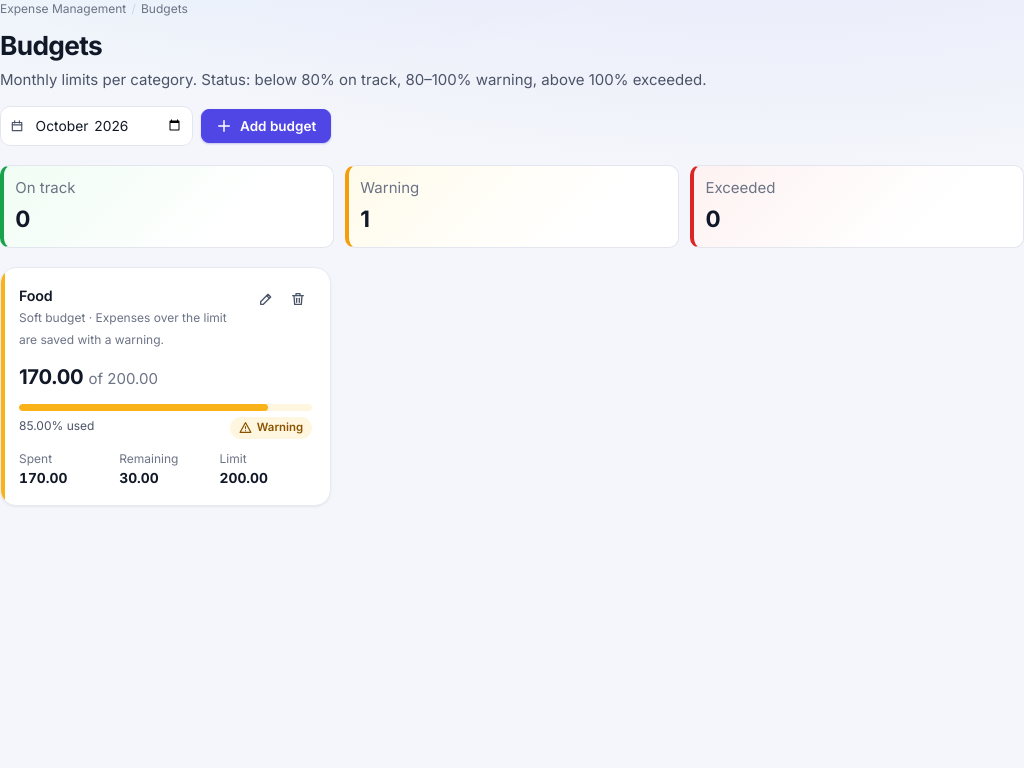
BudgetsPage › delete → confirmation dialog then DELETE
expect the heading "Food" is shown: met, box [19, 287, 53, 304]
Click the 2nd button named "Delete Food budget".
click(298, 299)  # box [284, 285, 312, 313]
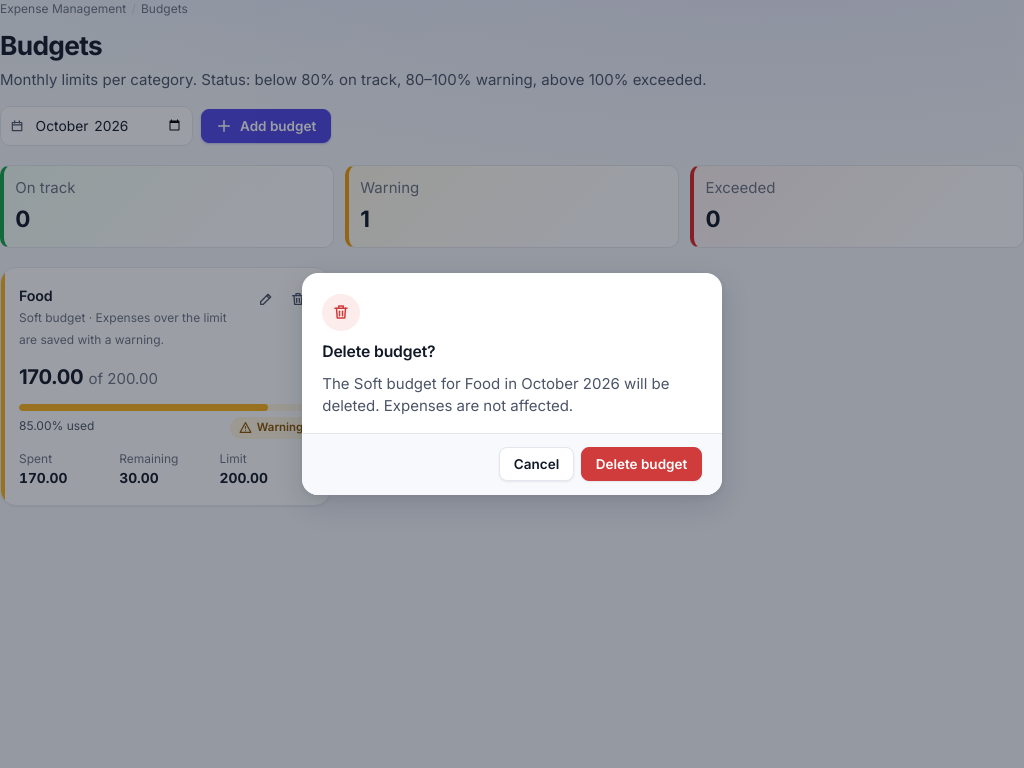
Click the button "Delete budget".
click(642, 464)  # box [581, 447, 702, 481]
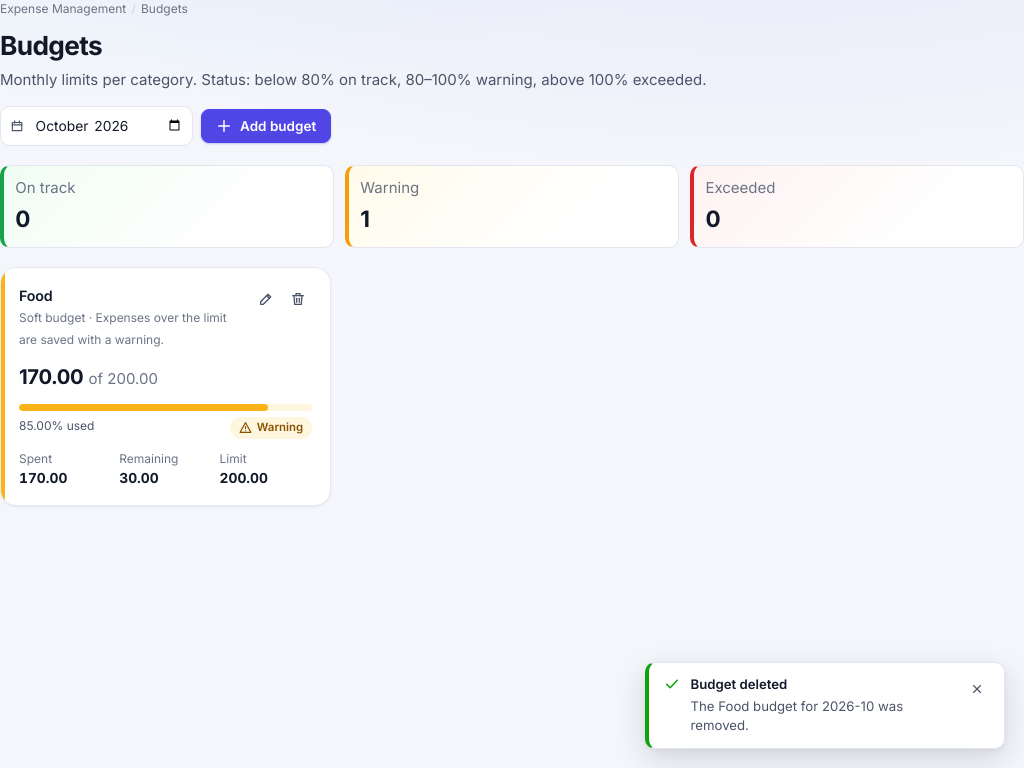
expect the text "Budget deleted" is shown: met, box [690, 676, 787, 692]
